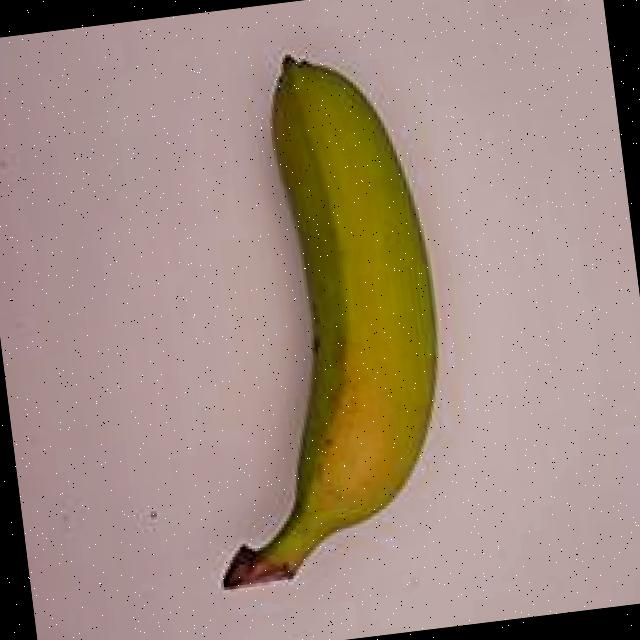Unripe: (140, 3, 495, 620)
